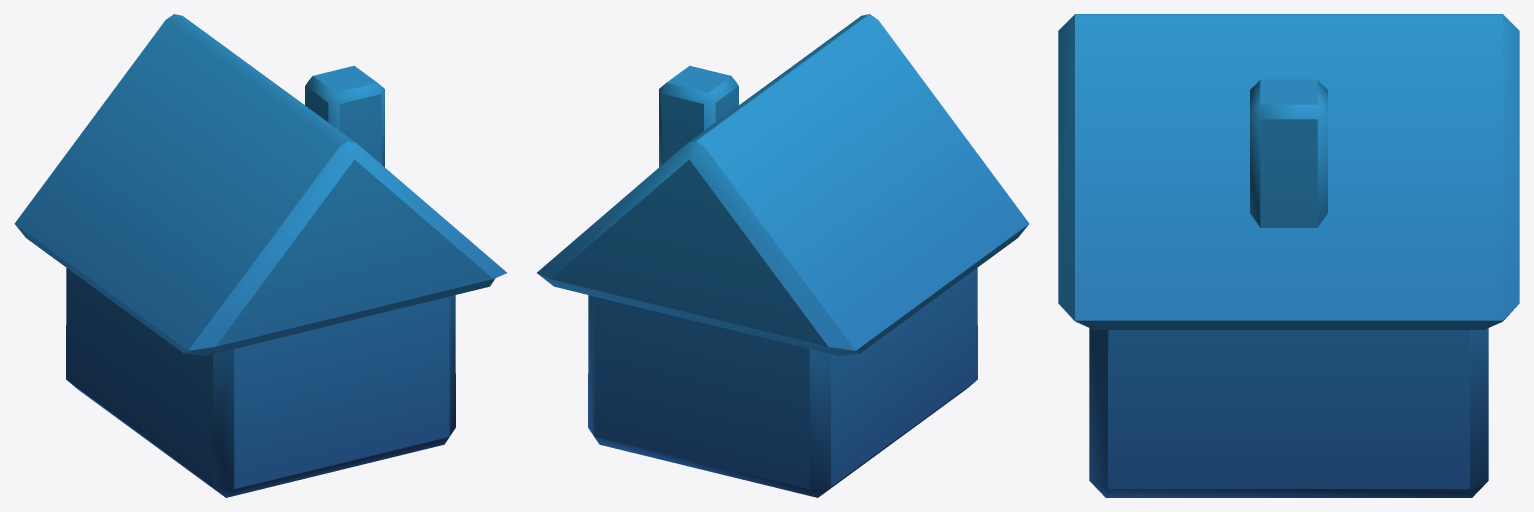
The model's file is building_blue.obj.
3 views of the same model, side by side, from view 1: azimuth 30°, elevation 25°; view 2: azimuth 150°, elevation 25°; view 3: azimuth 270°, elevation 25° (orthographic). The views are drawn at different scales.
Visible parts, largest first — view 1: building_blue; view 2: building_blue; view 3: building_blue.
Part boxes in pixels (x1,y1,x2,y2): building_blue: [14, 14, 506, 497]; building_blue: [537, 14, 1029, 497]; building_blue: [1058, 14, 1519, 497].
Size of the model in its own units: 0.9847 by 1 by 1.
Materials: 1 (1 with a texture image).
